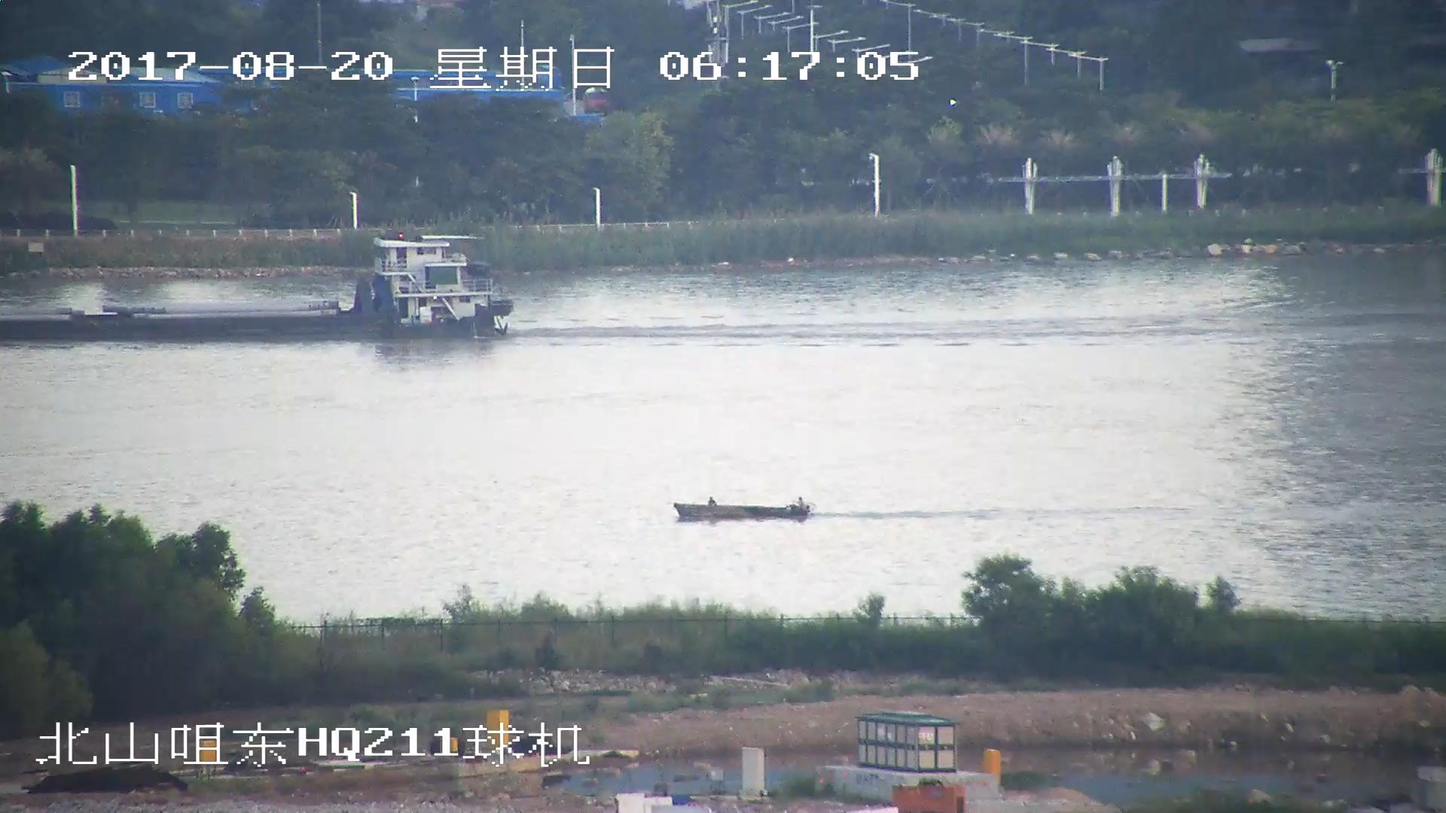bulk cargo carrier: (0, 237, 512, 337)
fishing boat: (673, 499, 810, 520)
